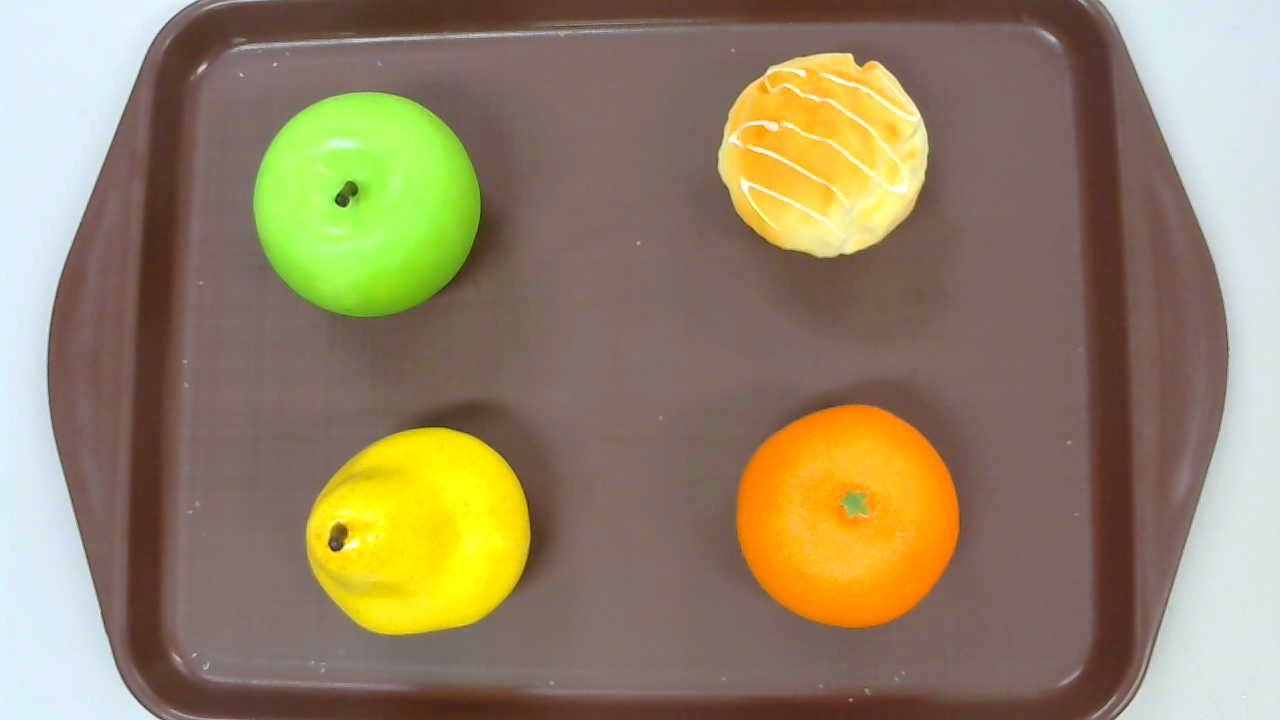cupcake: (716, 53, 929, 260)
green apple: (252, 92, 479, 319)
orange: (736, 404, 959, 628)
yellow pear: (305, 427, 531, 636)
